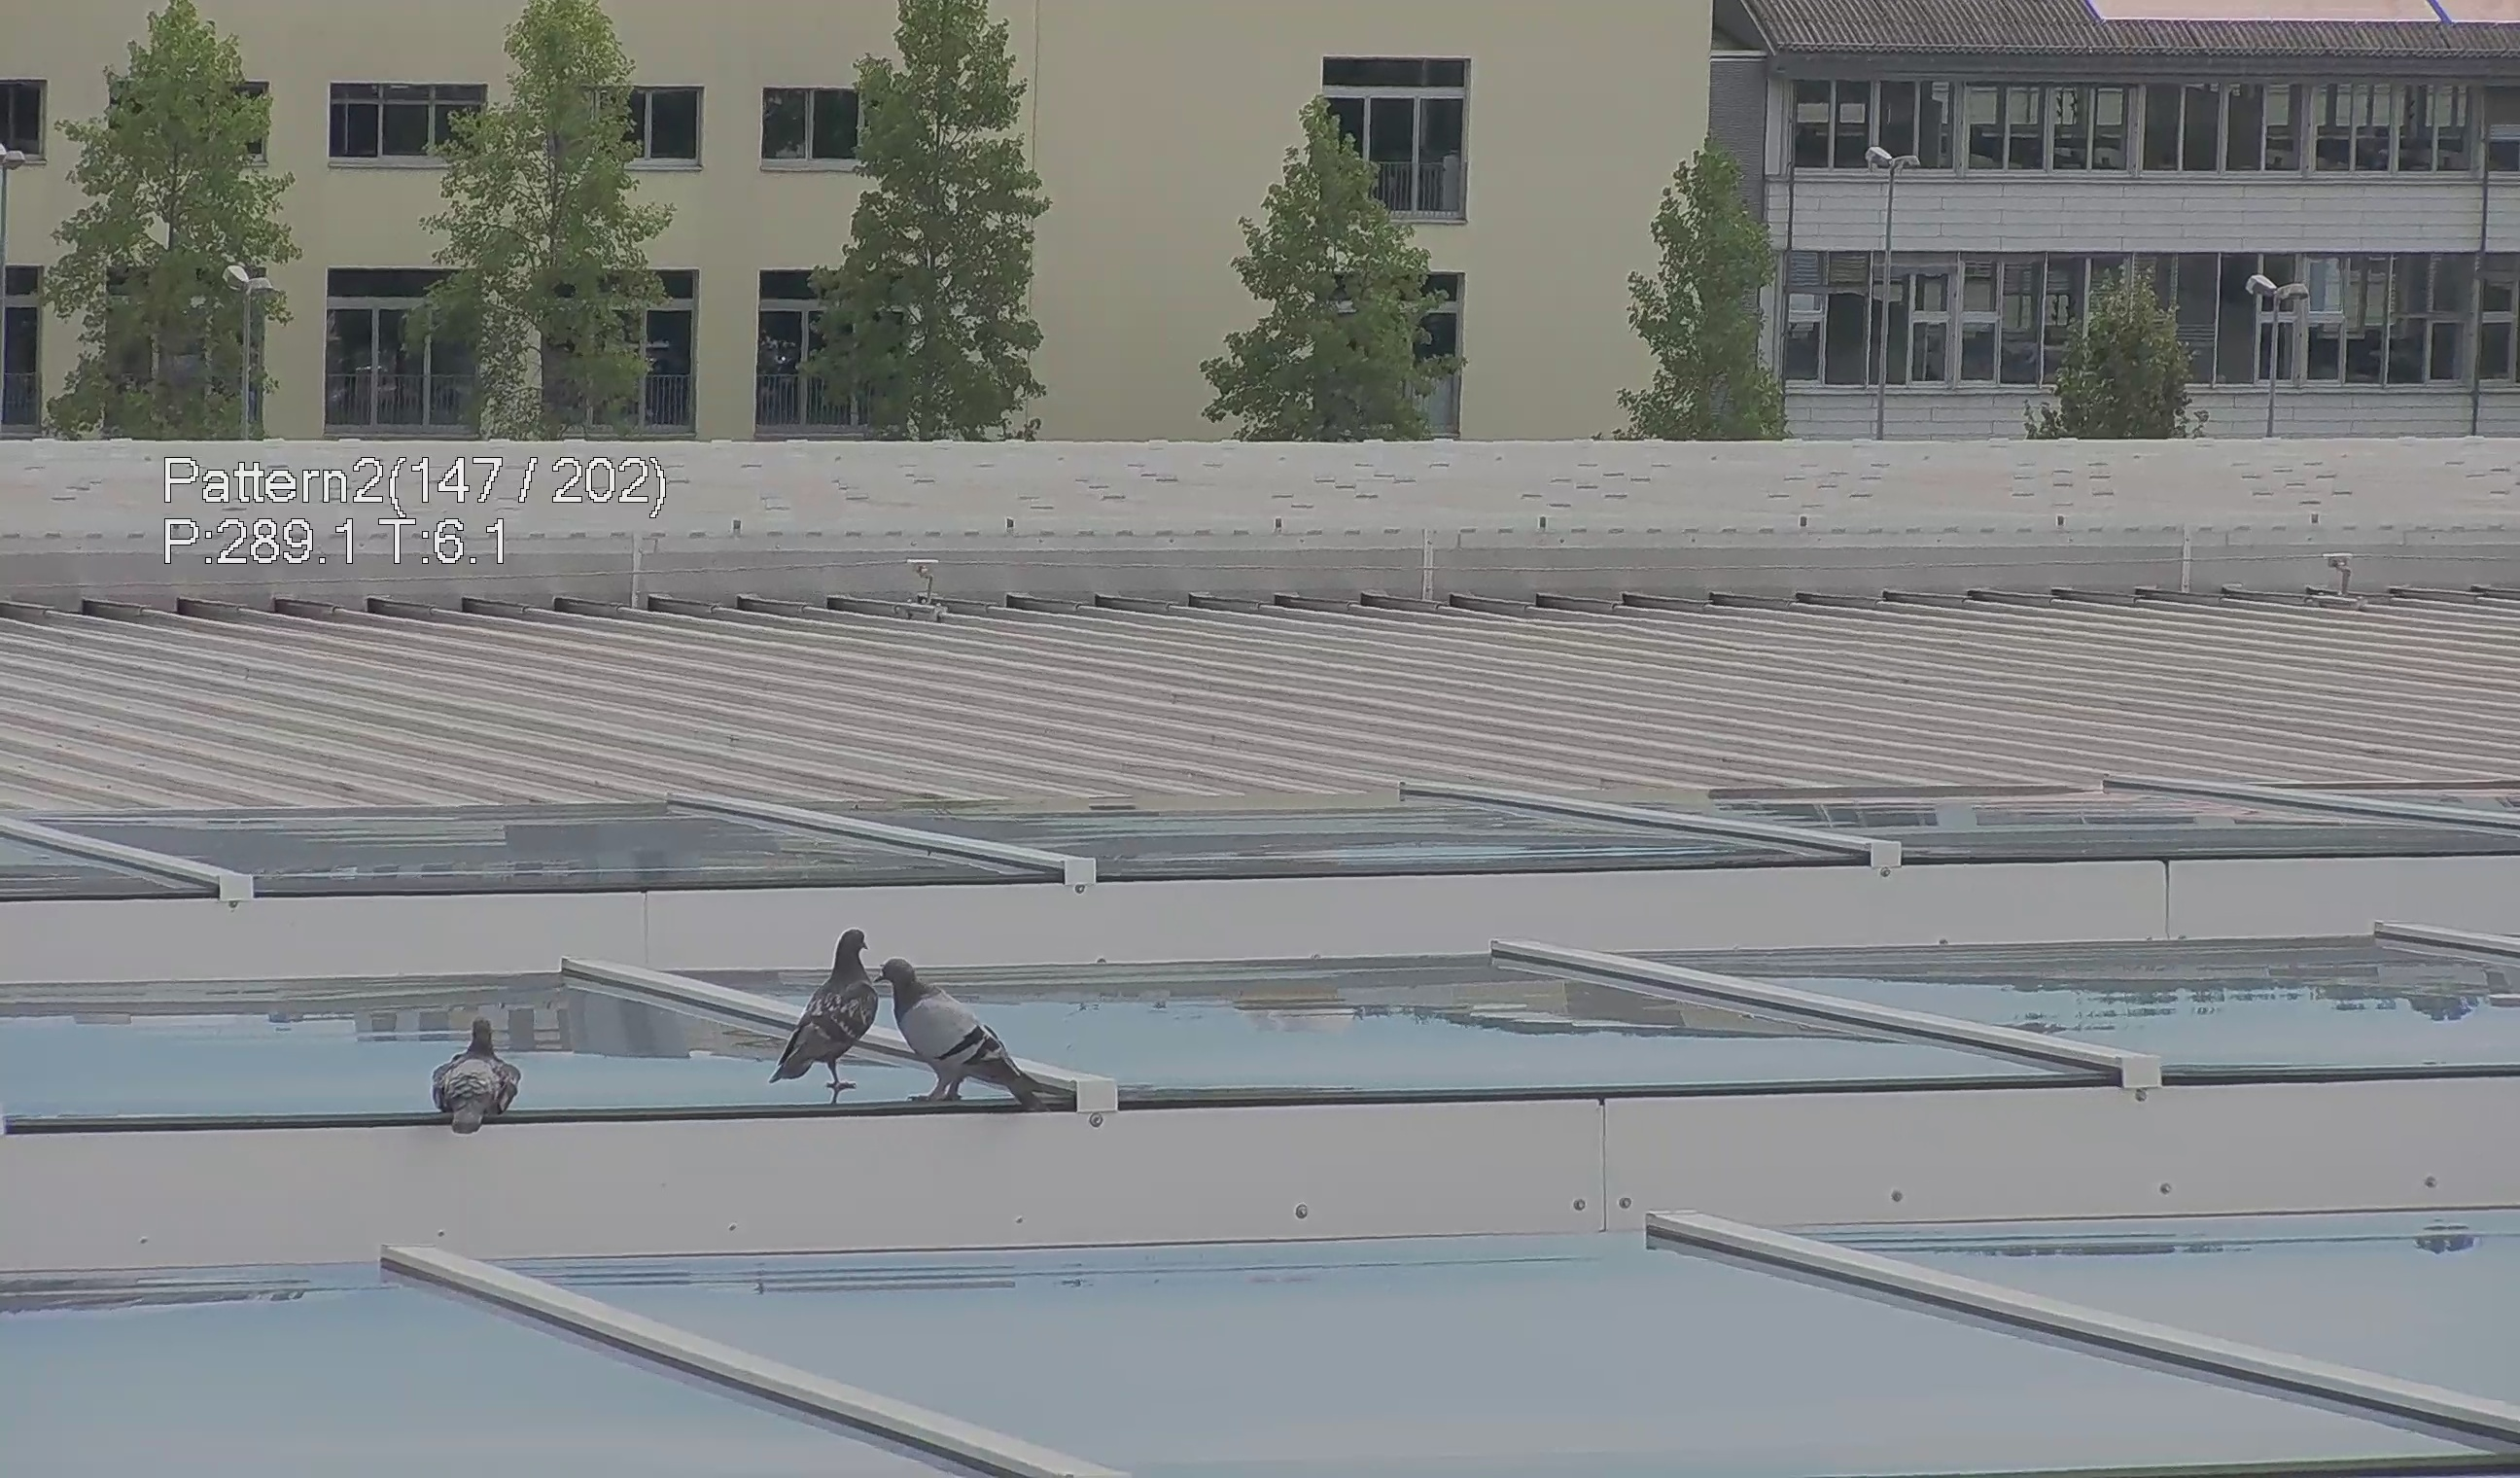Pigeon: (855, 948, 1069, 1116), (761, 927, 876, 1101), (403, 1003, 515, 1149)
